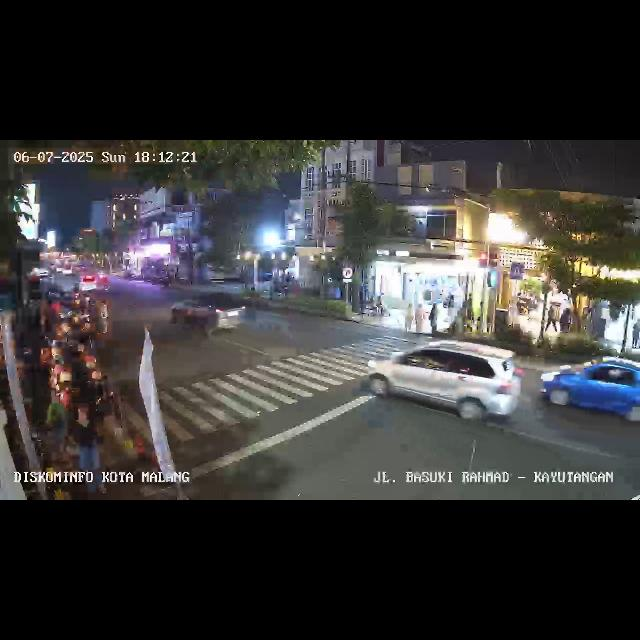car: (366, 340, 522, 428), (540, 357, 640, 433), (168, 292, 246, 336)
person: (98, 298, 112, 338), (444, 293, 454, 331), (428, 302, 438, 336), (560, 306, 572, 334), (414, 301, 424, 331), (548, 305, 558, 335), (402, 305, 412, 333), (632, 319, 640, 349)
